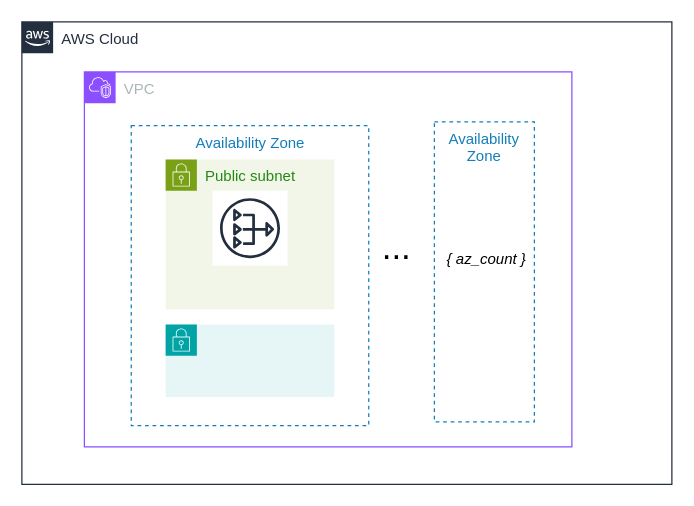
The diagram is 694 pixels wide and 506 high, and some of its shapes have lost their labels. The centre of each missing label's shape, as x and y in pixels:
NAT gateway: (249,227)
Private subnet: (249,360)
